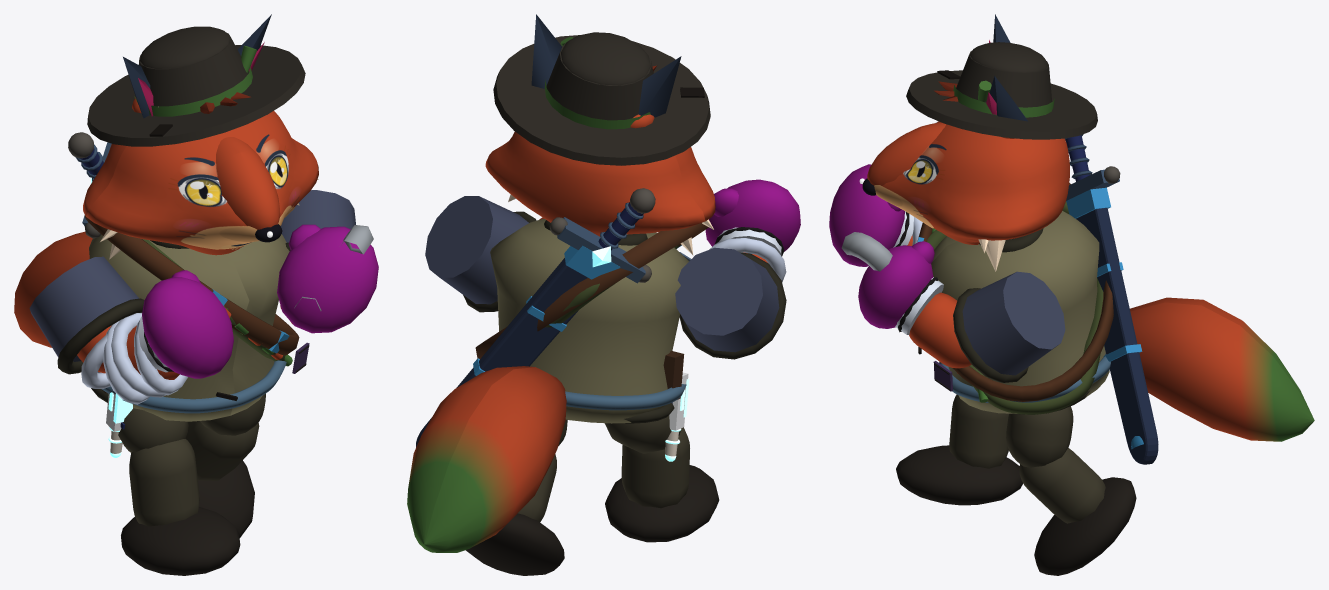
The model's file is jack_alt1.glb.
3 views of the same model, side by side, from view 1: azimuth 30°, elevation 25°; view 2: azimuth 150°, elevation 25°; view 3: azimuth 270°, elevation 25° (orthographic). The views are drawn at different scales.
Parts seen in each view (by area): view 1: JALAPEÑO JACK ALT 1, object 9, object 34, object 30, object 2, object 10, object 11, object 12, object 3; view 2: JALAPEÑO JACK ALT 1, object 9, object 30, object 11, object 10, object 3, object 6, object 12, object 31, object 32; view 3: JALAPEÑO JACK ALT 1, object 9, object 34, object 30, object 10, object 11, object 2, object 6, object 12, object 36.
Part boxes in pixels (bbox=[...]): JALAPEÑO JACK ALT 1: bbox=[14, 92, 373, 575]; object 9: bbox=[87, 45, 305, 146]; object 34: bbox=[277, 226, 378, 333]; object 30: bbox=[142, 277, 233, 378]; object 2: bbox=[168, 134, 298, 249]; object 10: bbox=[138, 32, 249, 106]; object 11: bbox=[140, 26, 230, 68]; object 12: bbox=[134, 67, 252, 116]; object 3: bbox=[123, 57, 150, 118]; JALAPEÑO JACK ALT 1: bbox=[407, 65, 786, 575]; object 9: bbox=[493, 35, 710, 165]; object 30: bbox=[705, 179, 800, 251]; object 11: bbox=[561, 32, 650, 85]; object 10: bbox=[546, 38, 653, 120]; object 3: bbox=[638, 56, 681, 117]; object 6: bbox=[531, 14, 561, 88]; object 12: bbox=[544, 79, 650, 129]; object 31: bbox=[714, 188, 738, 216]; object 32: bbox=[717, 227, 781, 255]; JALAPEÑO JACK ALT 1: bbox=[841, 81, 1314, 575]; object 9: bbox=[906, 70, 1097, 139]; object 34: bbox=[858, 245, 933, 328]; object 30: bbox=[829, 164, 904, 266]; object 10: bbox=[956, 51, 1052, 107]; object 11: bbox=[970, 42, 1047, 72]; object 2: bbox=[874, 122, 946, 228]; object 6: bbox=[989, 75, 1027, 121]; object 12: bbox=[953, 85, 1054, 117]; object 36: bbox=[895, 277, 943, 334].
Bounding box in the file's own units: 1.81 × 2.85 × 2.49.
114 materials, 1 textured.
